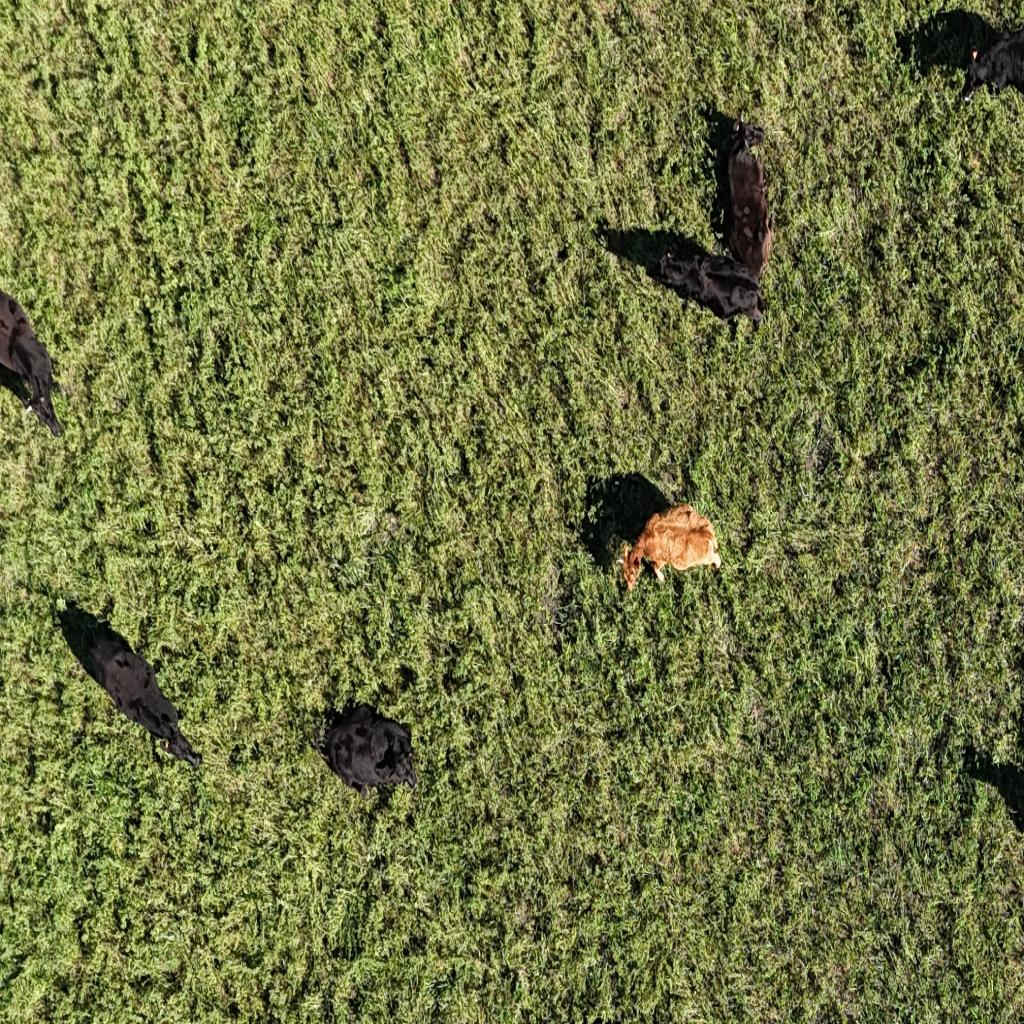cow: (32, 576, 212, 804), (638, 226, 788, 379), (683, 72, 789, 282), (296, 670, 434, 815), (896, 6, 1024, 153), (0, 241, 67, 485), (597, 496, 735, 594)
